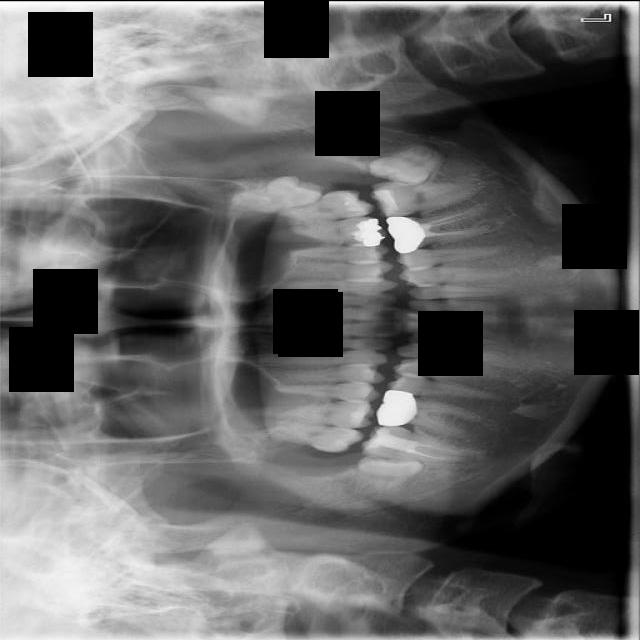52: (367, 177, 421, 220), (384, 206, 430, 256), (361, 421, 415, 458), (375, 387, 420, 429), (321, 188, 376, 219), (336, 215, 387, 246)
73: (405, 197, 492, 249), (395, 430, 466, 470), (572, 36, 582, 42)
BioHorizons Implant: (248, 186, 377, 226)
BioLife Implant: (221, 165, 328, 225)
Biomet 3i Implant: (367, 137, 449, 196)
Blue Sky Bio Implant: (369, 180, 477, 217)
Caries: (233, 413, 366, 456)
Implant: (359, 420, 466, 464)
Keystone Dental Implant: (353, 454, 423, 496)
